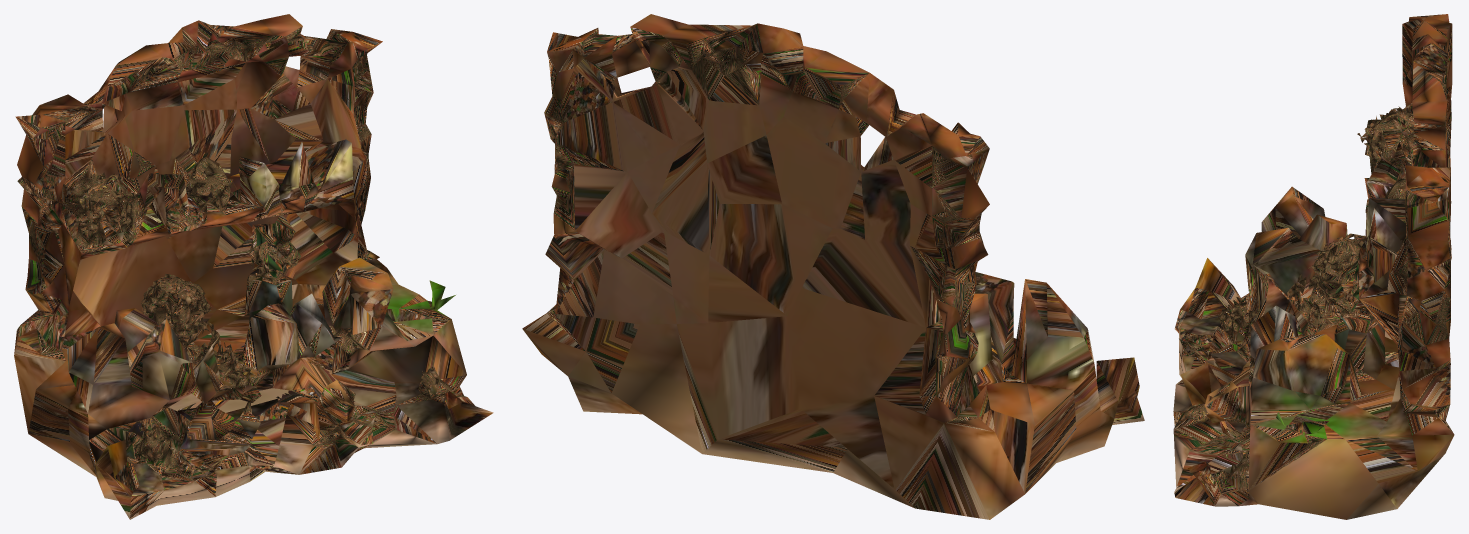
The model's file is bq_apothecary.far.glb.
The picture shows the model from 3 angles, left to right: view 1: azimuth 30°, elevation 25°; view 2: azimuth 150°, elevation 25°; view 3: azimuth 270°, elevation 25°; orthographic projection. The views are drawn at different scales.
Bounding box in the file's own units: 1.93 × 1.75 × 1.16.
Materials: 1 (1 with a texture image).
